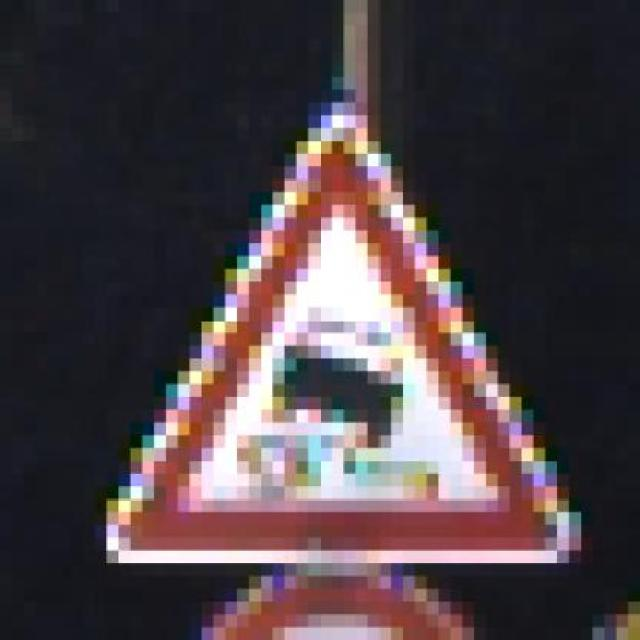Slippery Road Ahead: (94, 89, 580, 563)
